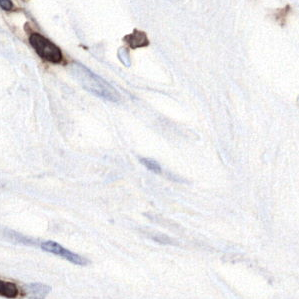Lymphocyte: (27, 30, 65, 66)
